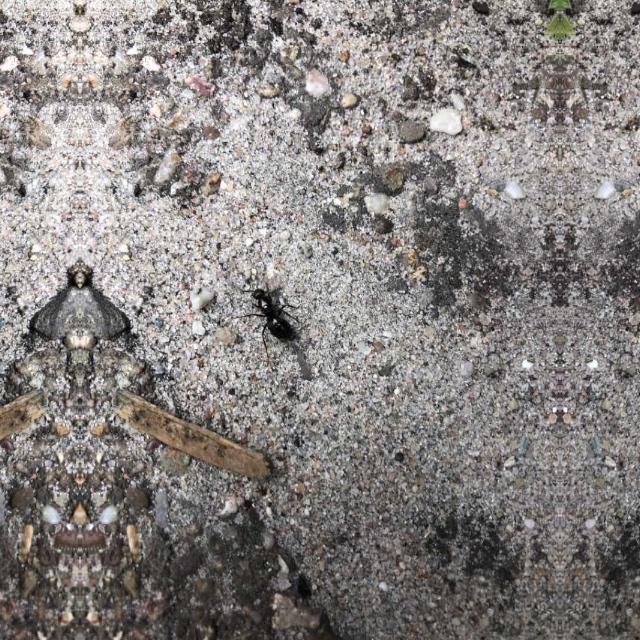Formica: (237, 265, 303, 343)
